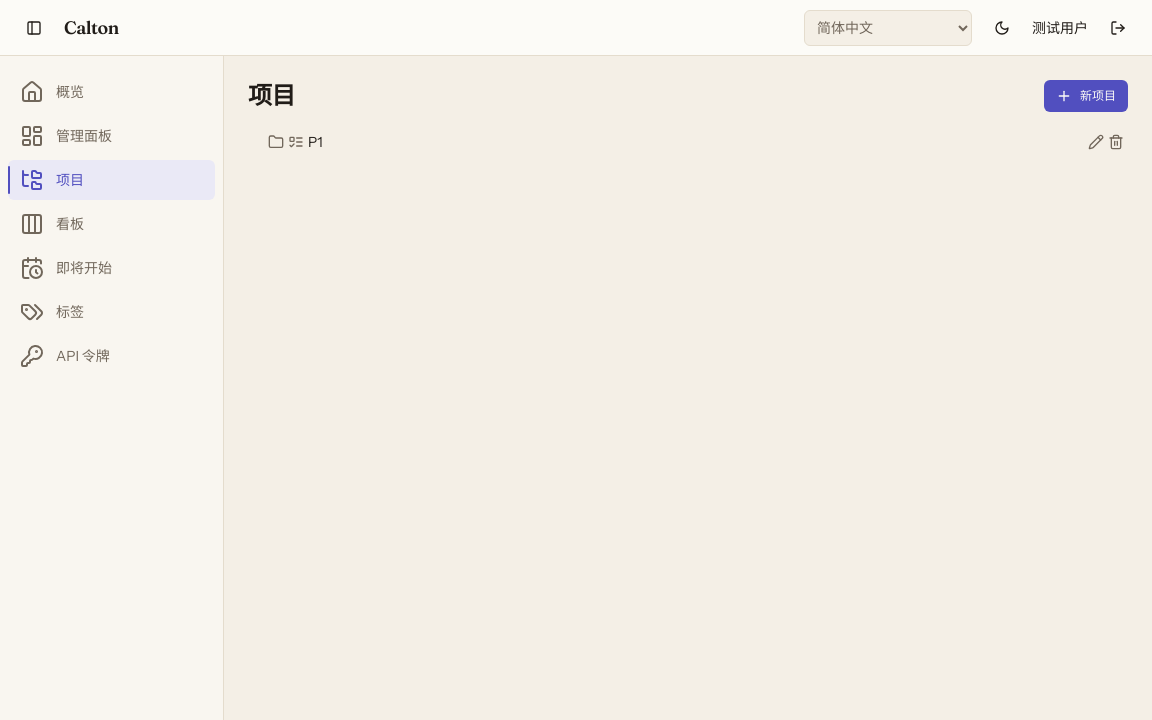
项目页 · 展开任务/子任务 › 空项目展示占位而不是报错
Expected: the list "P1" is shown, [248,128,1128,156]
Click the button with test id "project-tasks-toggle-1" at [296, 142], box [288,134,304,150]
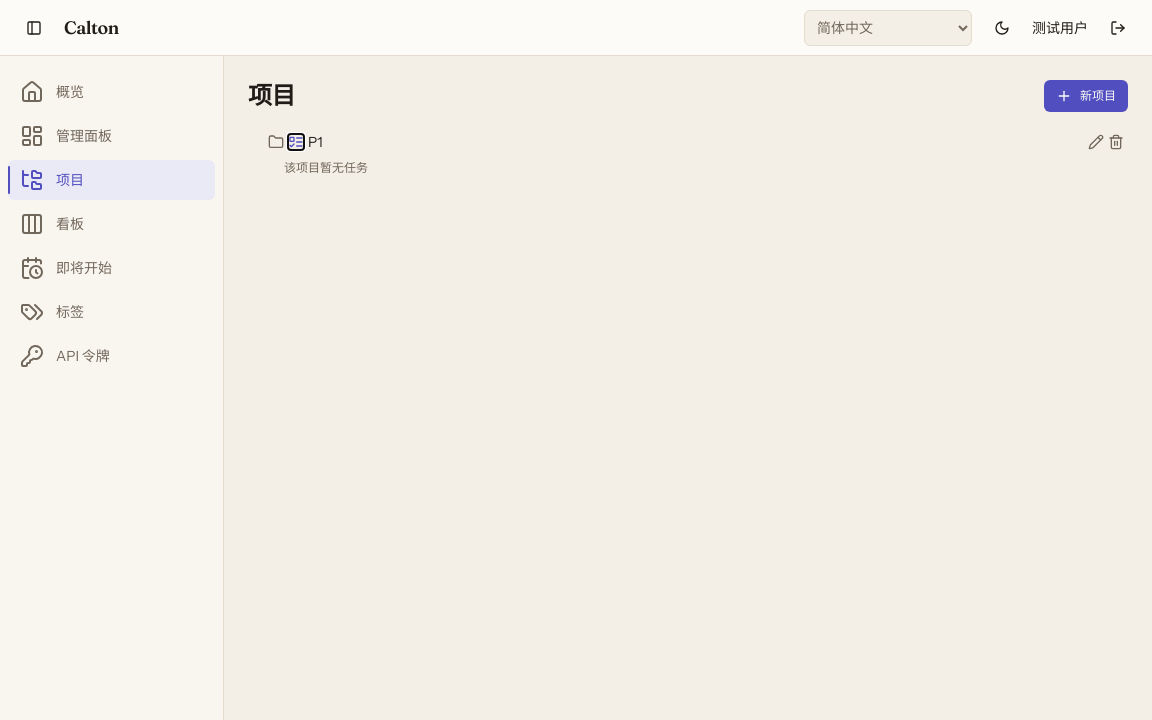
Result: the text "该项目暂无任务" is shown at [284,160,368,175]
